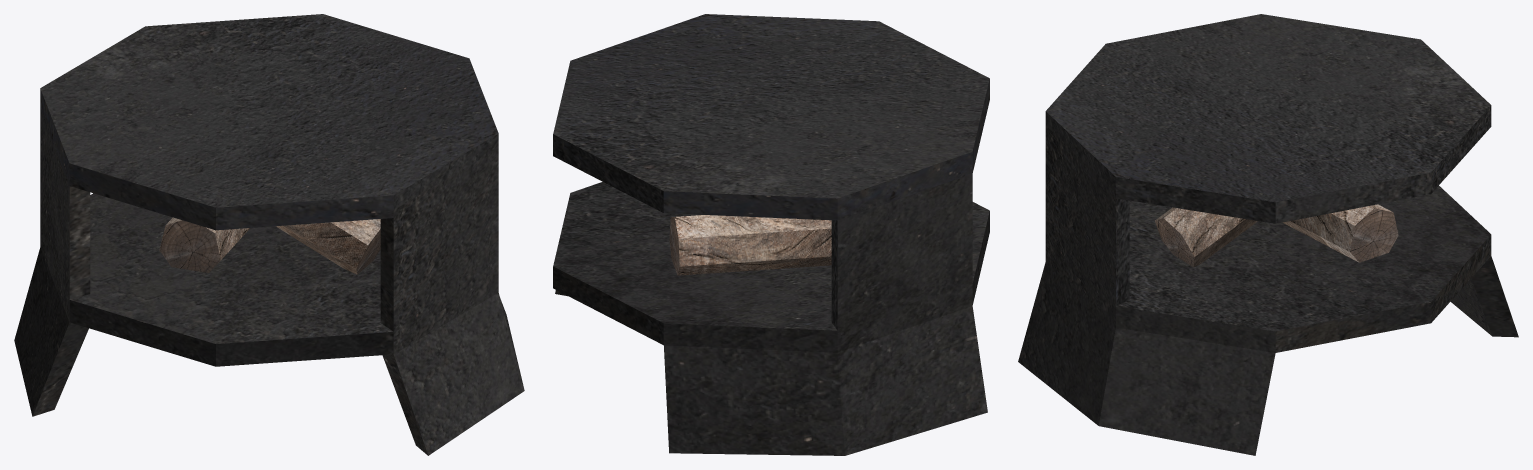
The model's file is Furnance.fbx.
3 renders of one model, left to right at view 1: azimuth 30°, elevation 25°; view 2: azimuth 150°, elevation 25°; view 3: azimuth 270°, elevation 25°, orthographic. The views are drawn at different scales.
Visible parts, largest first — view 1: pCylinder7; view 2: pCylinder7; view 3: pCylinder7.
Part boxes in pixels (<box>): pCylinder7: <box>14,14,524,455</box>; pCylinder7: <box>553,14,989,455</box>; pCylinder7: <box>1018,14,1518,455</box>.
Bounding box in the file's own units: 34.82 × 18.42 × 34.63.
